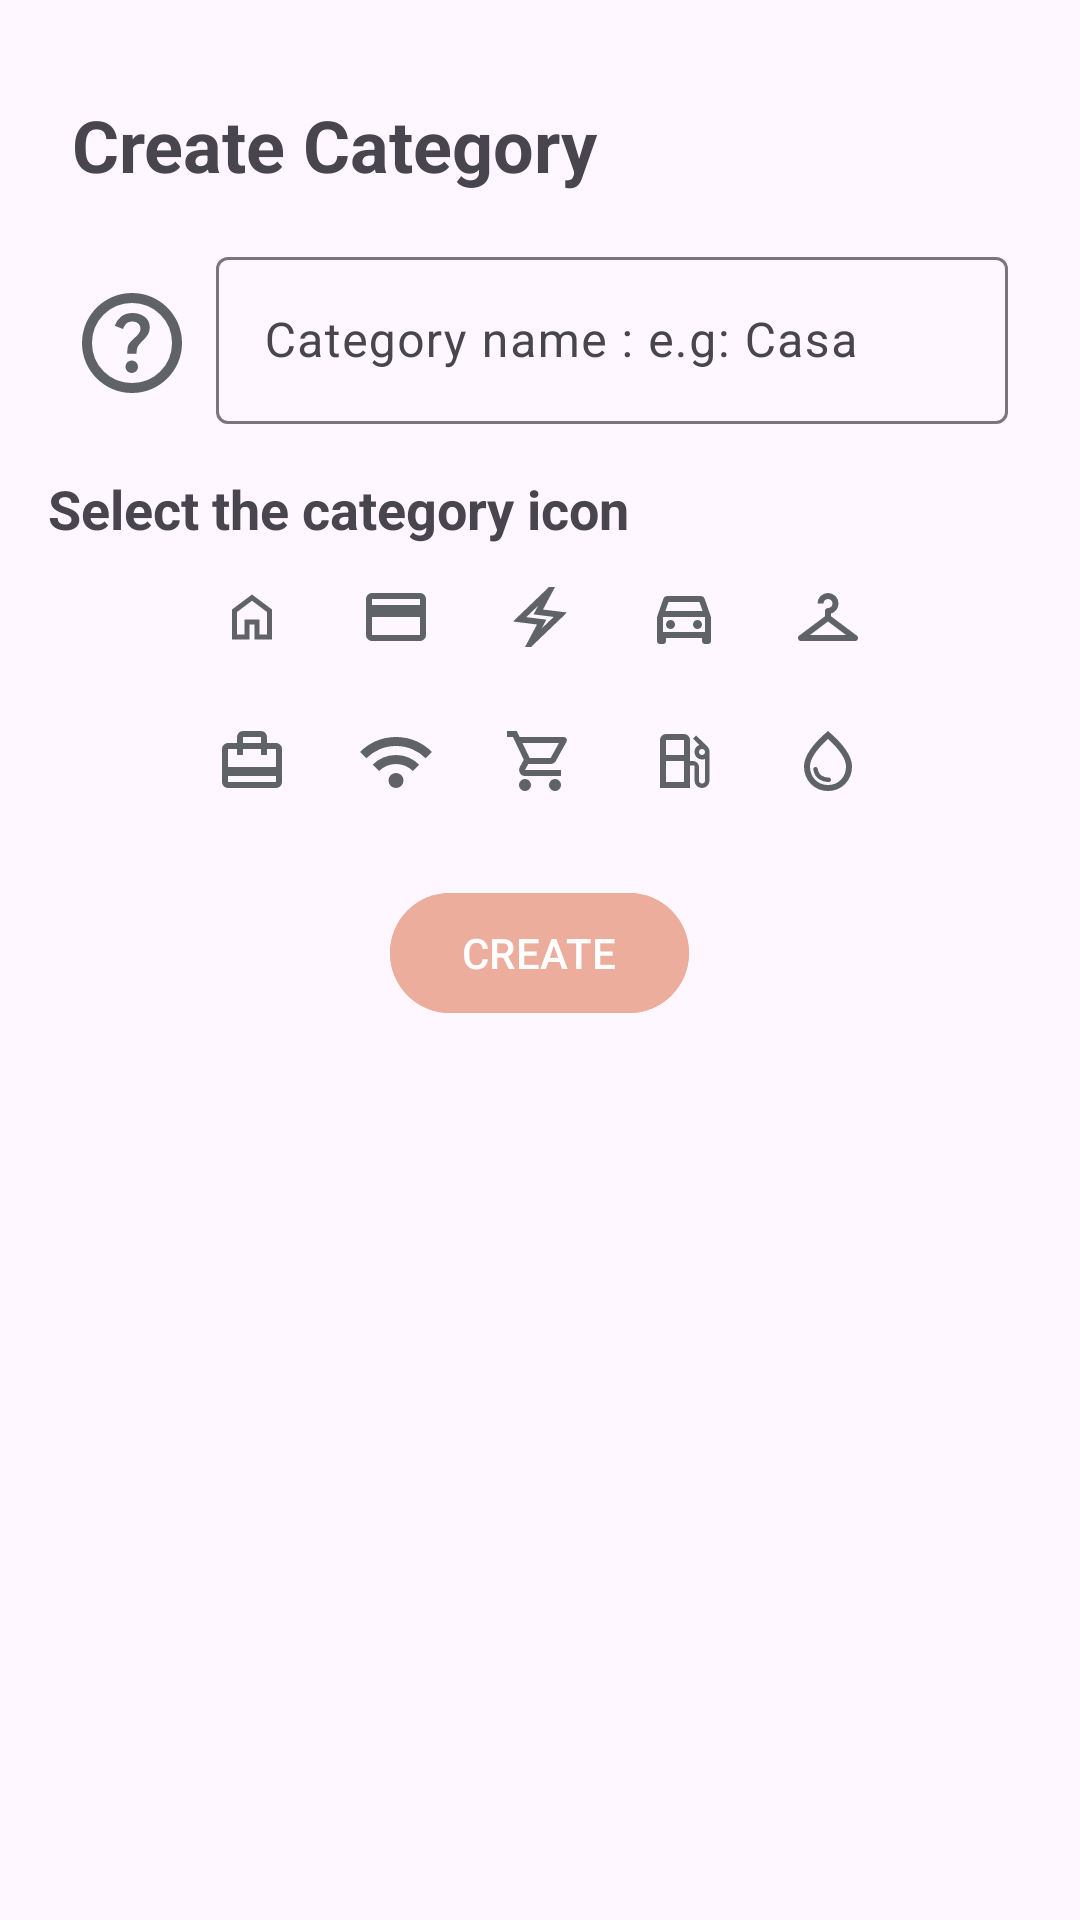

Named icons in this screenshot (1080 × 1920) and their centers, [x,y]:
car: [684,620]
checkroom: [828,617]
credit card: [396,617]
electric: [540,617]
gas station: [685,761]
help: [132,343]
home: [252,617]
shopping cart: [537,761]
travel: [252,759]
water: [828,761]
wifi: [396,762]
